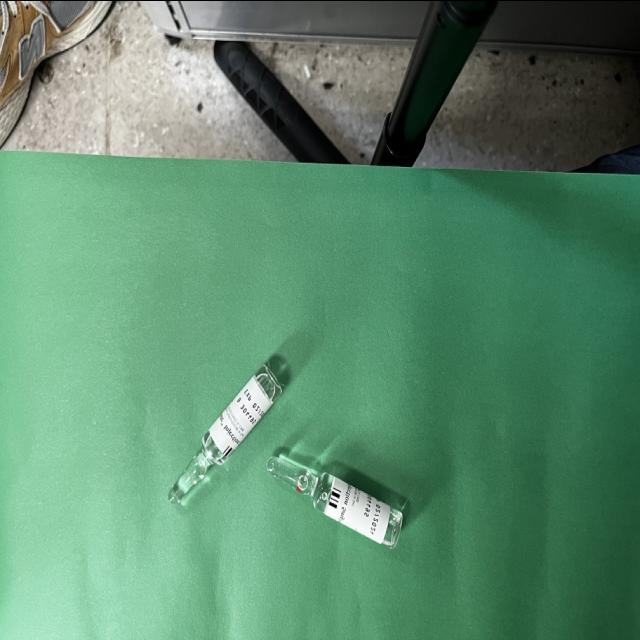Ampoules: (168, 364, 282, 504), (266, 453, 404, 547)
